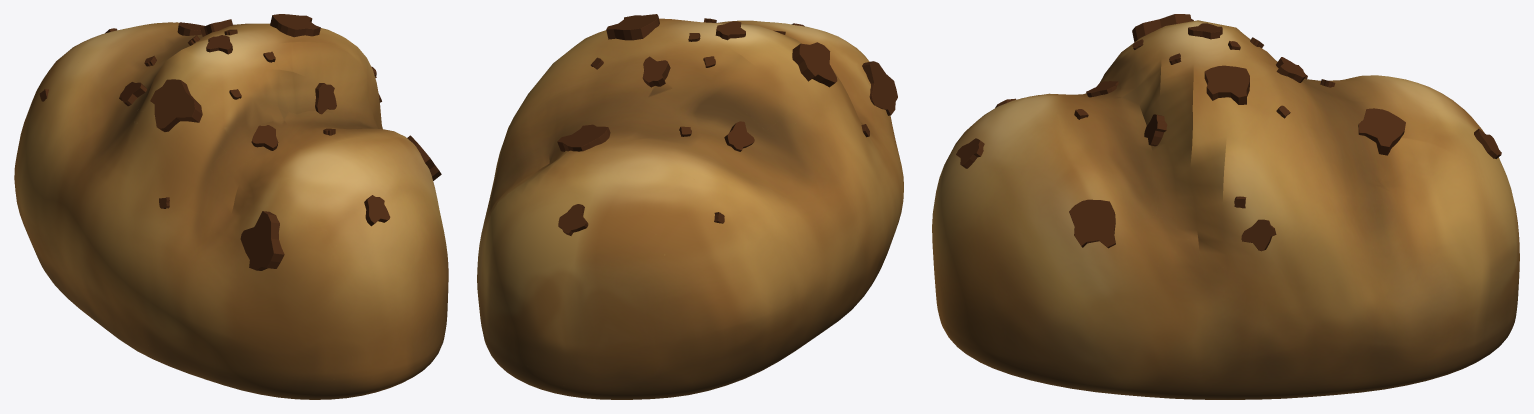
The model's file is Basic Bread.fbx.
3 views of the same model, side by side, from view 1: azimuth 30°, elevation 25°; view 2: azimuth 150°, elevation 25°; view 3: azimuth 270°, elevation 25° (orthographic). The views are drawn at different scales.
Parts seen in each view (by area): view 1: Cube, Chunks; view 2: Cube, Chunks; view 3: Cube, Chunks.
Boxes of the visible parts, x1,y1,x2,y2 form: Cube: (14,22,448,399); Chunks: (39,14,441,270); Cube: (477,18,903,399); Chunks: (557,14,897,235); Cube: (932,20,1519,399); Chunks: (956,14,1501,251).
Bounding box in the file's own units: 296 × 248 × 450.
2 materials, 1 textured.
